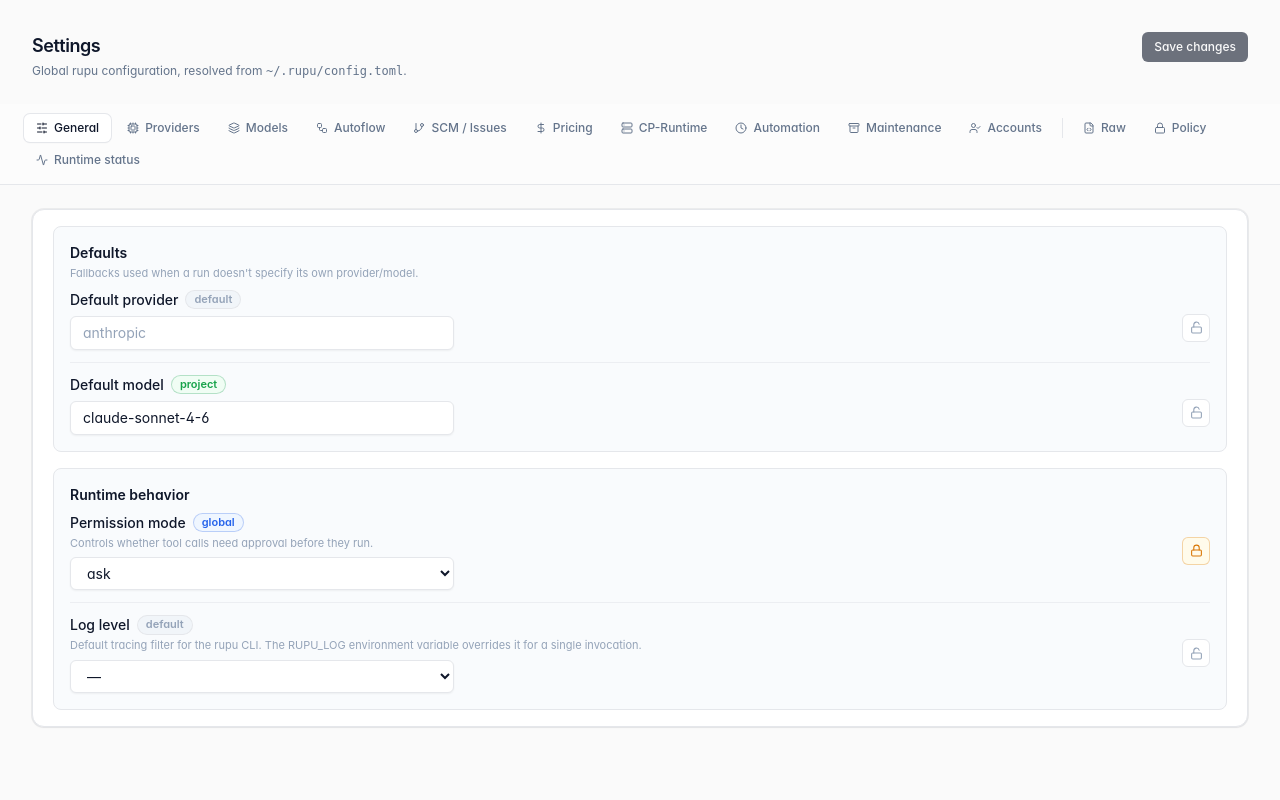
Test: Settings page › renders the CP bearer token as masked, never as a value
Check: the field labelled "Default model" is shown, box 70,400 -> 454,434
Click the button "CP-Runtime": click(664, 128) 609,114 -> 719,142
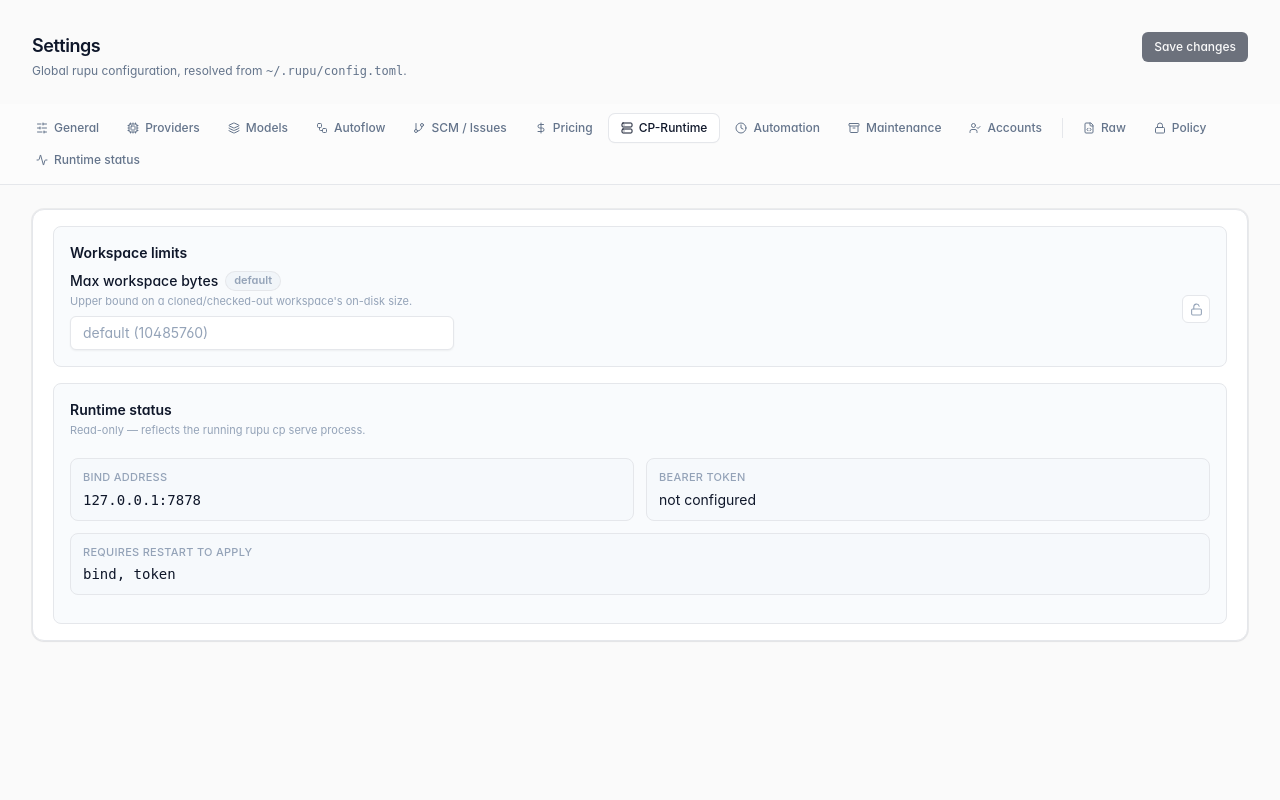
Check: the text "not configured" is shown, box 659,490 -> 756,508
